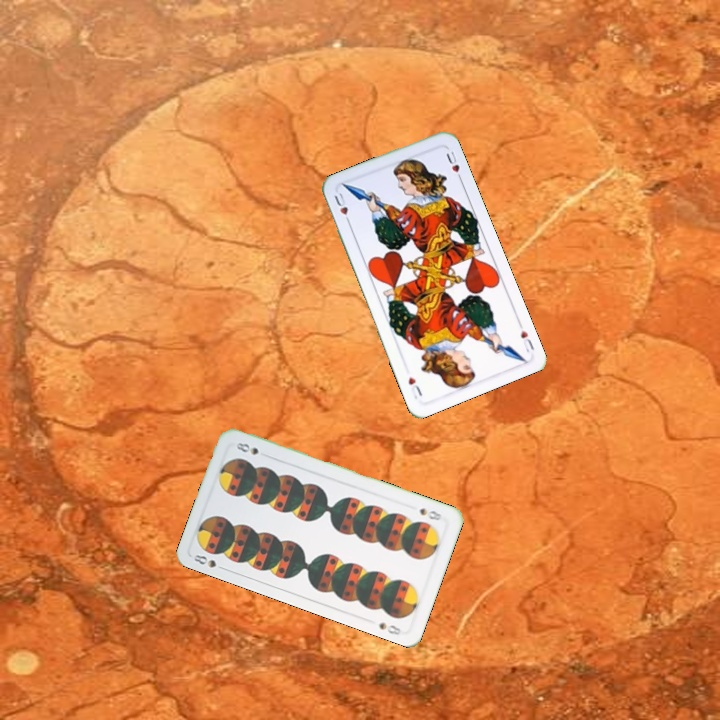HU: (330, 188, 353, 227), (517, 325, 537, 354)
S8: (189, 550, 229, 573), (415, 504, 445, 523)
